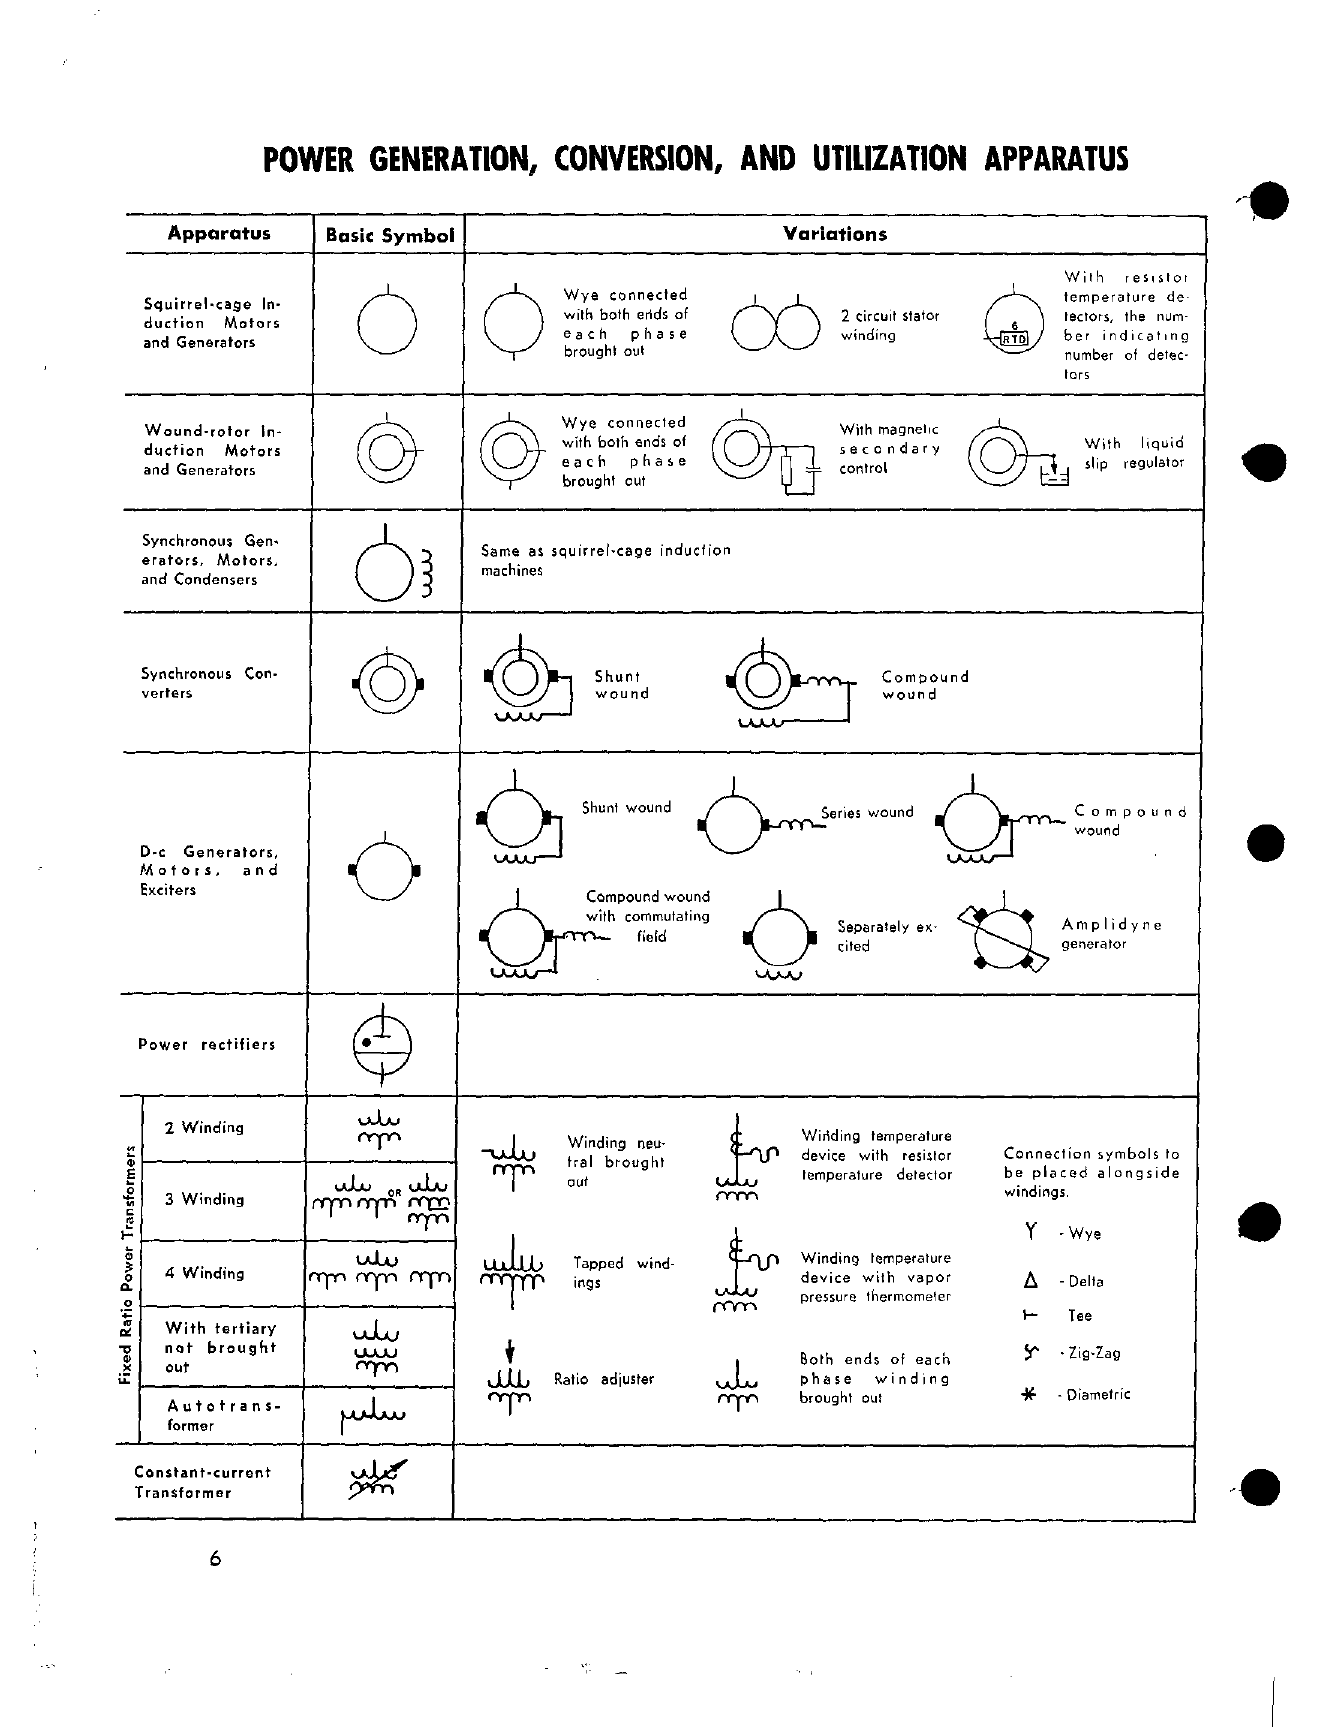transformer: (308, 1310, 449, 1386), (304, 1446, 452, 1517), (686, 1107, 787, 1203), (312, 1175, 452, 1243), (305, 1244, 452, 1306), (700, 1214, 784, 1320), (468, 1218, 556, 1314), (465, 1329, 547, 1431), (305, 1389, 449, 1441), (473, 1124, 555, 1199), (695, 1352, 770, 1422), (339, 1096, 419, 1158)
